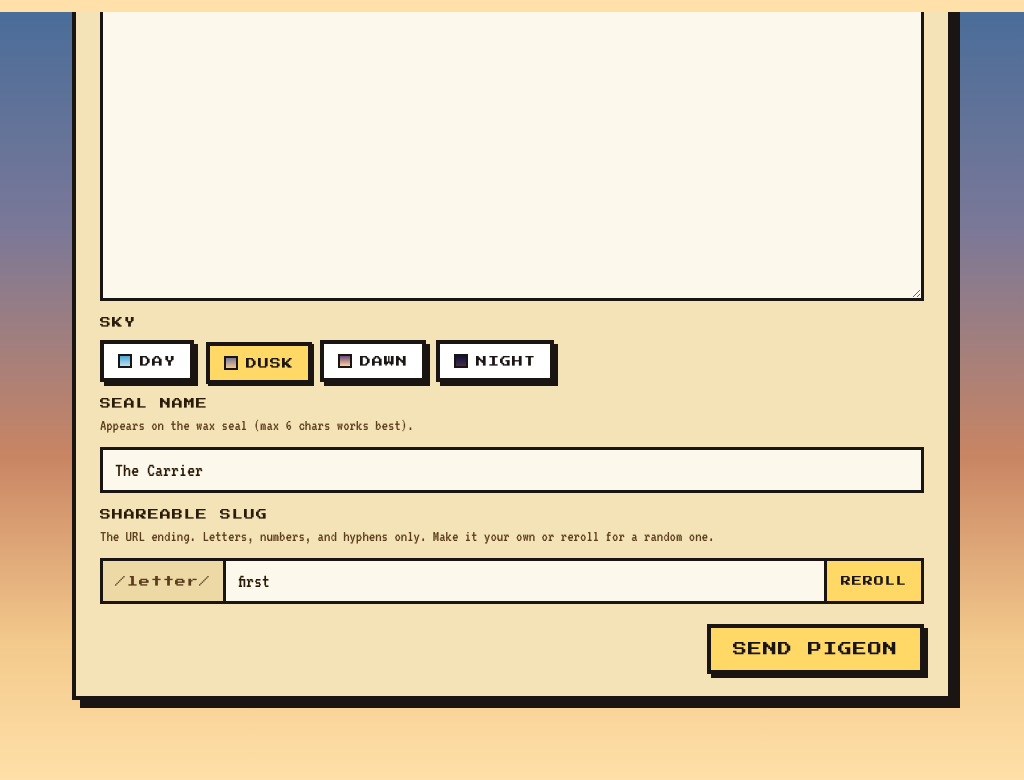
it: ComposeForm — initial render › REROLL button replaces the slug
Check: the field with class "slug-input" holds "first", box [226, 561, 824, 601]
Click the button "REROLL" at (872, 581), box [824, 561, 921, 601]
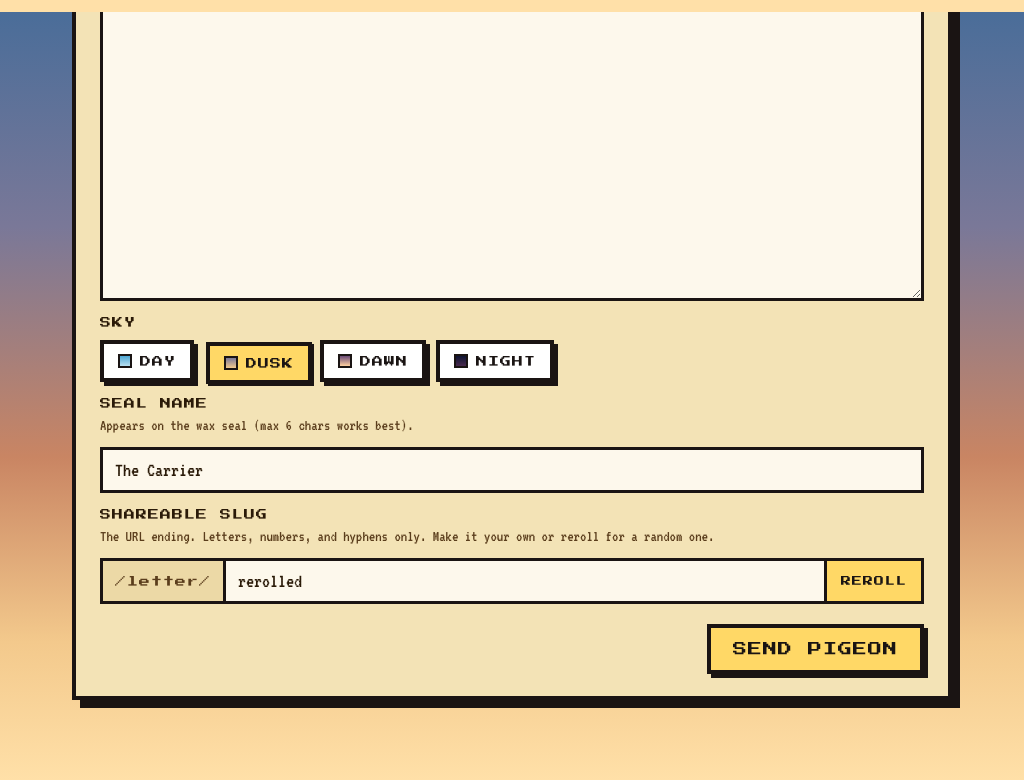
Check: the field with class "slug-input" holds "rerolled", box [226, 561, 824, 601]
